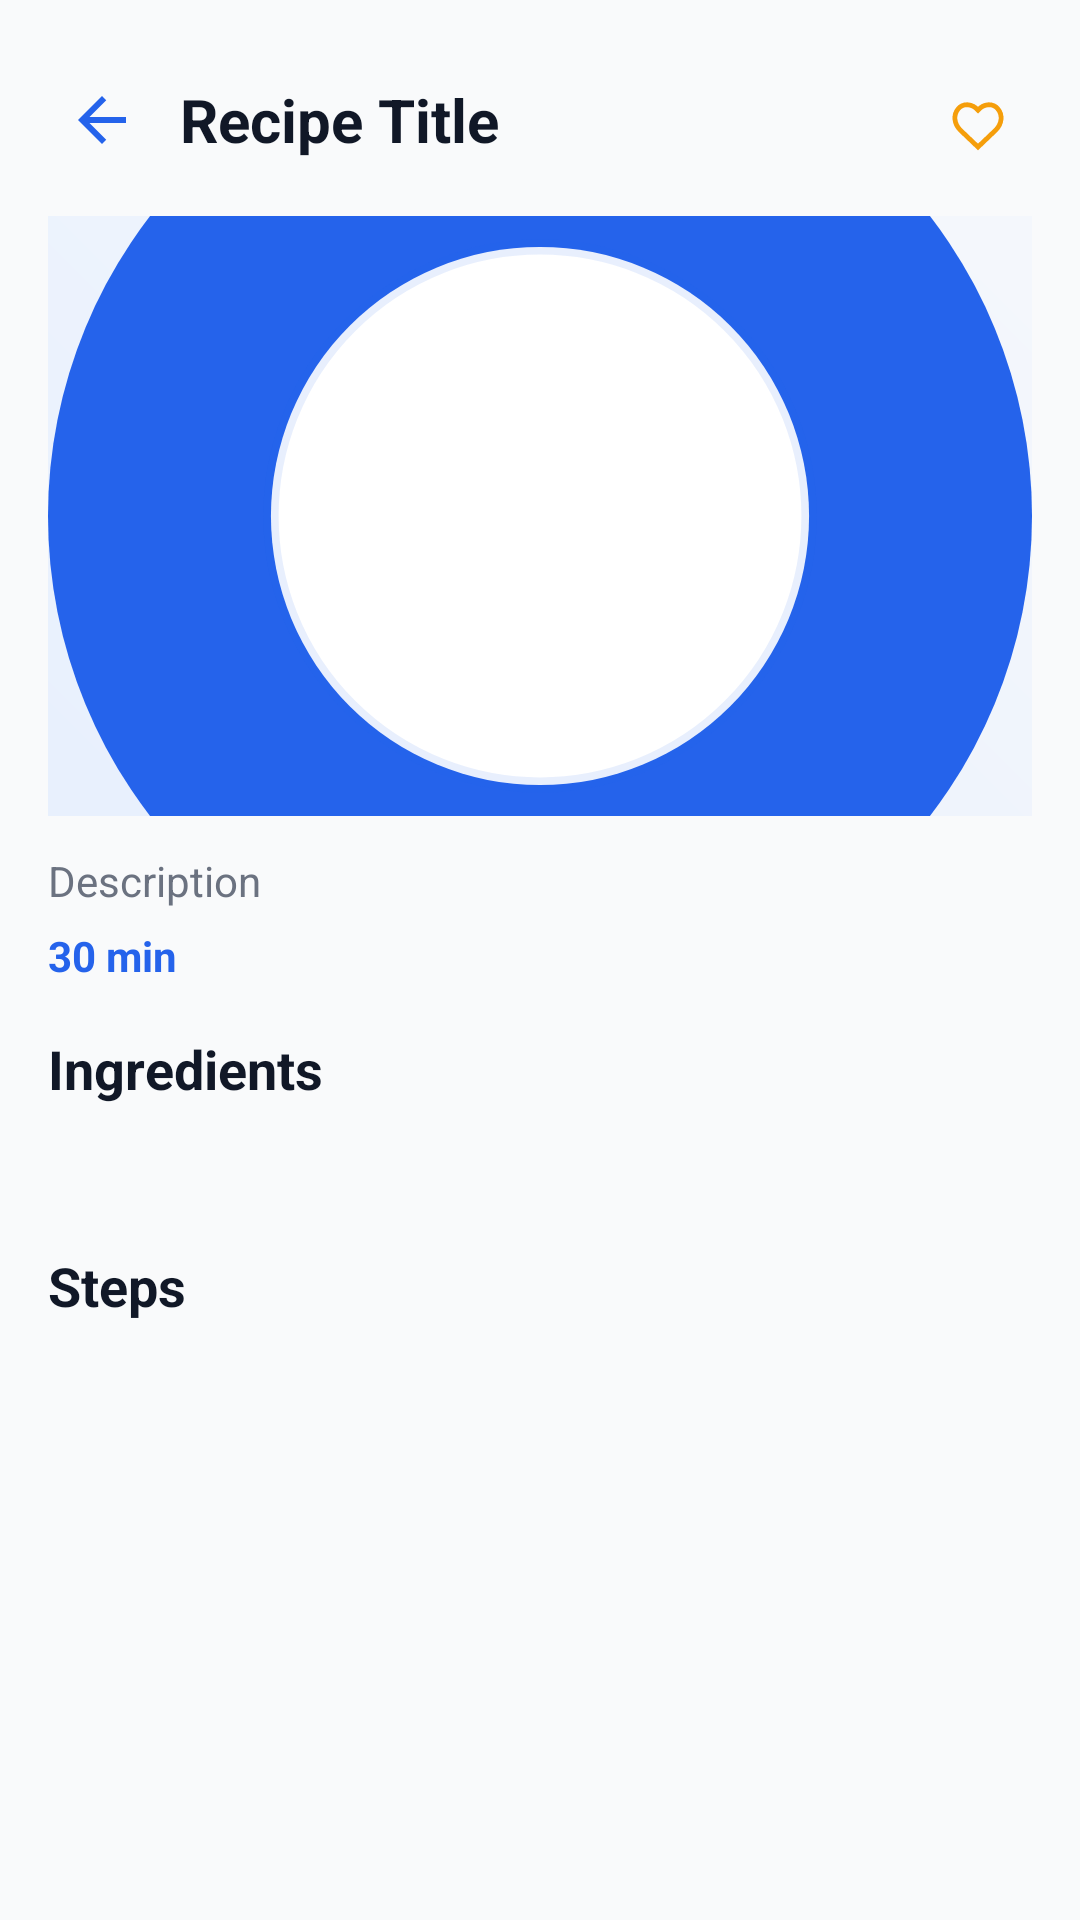

Locate icon controls on the screen. Image size 1080x1920, boxes as (x1, y1, x2, y2).
Back: (78, 96, 126, 144)
Mark as favorite: (952, 102, 1004, 150)
